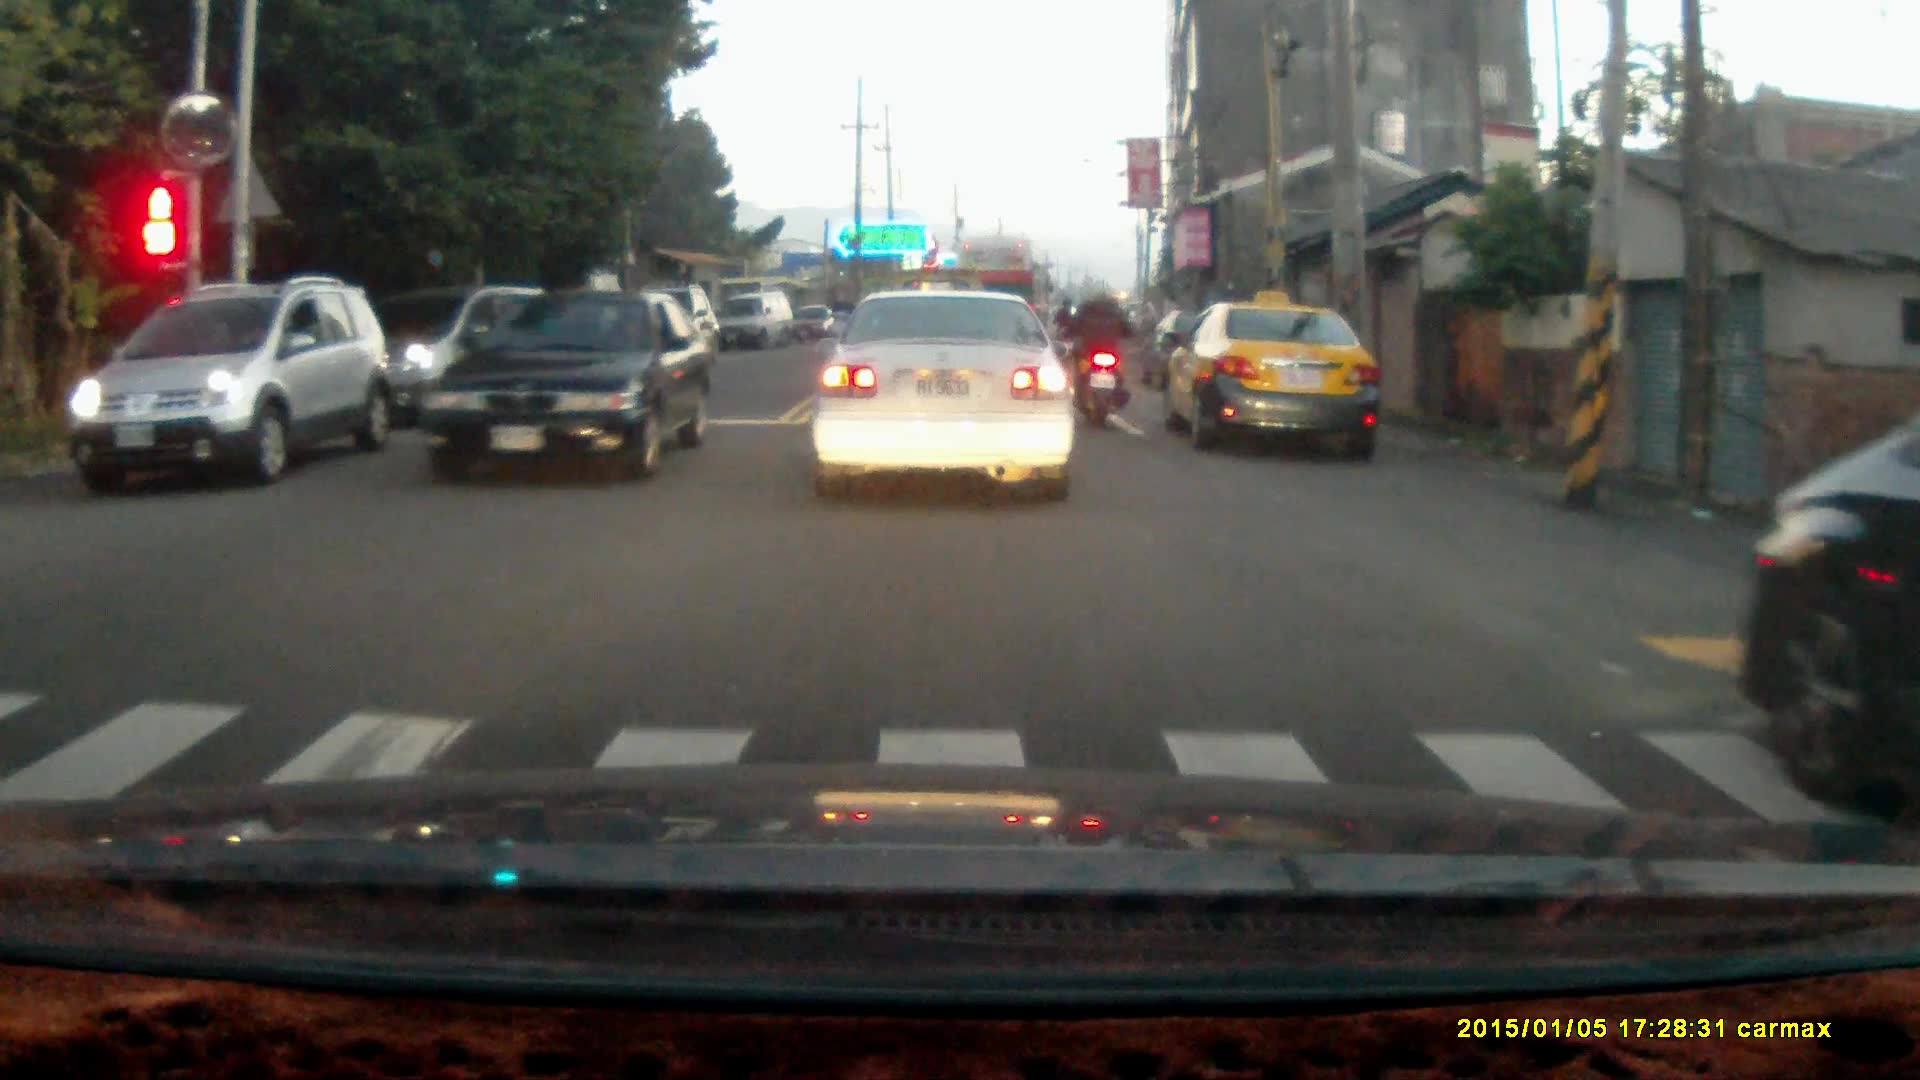rider: (1068, 274, 1136, 428)
vehicle: (1730, 418, 1920, 809), (66, 278, 381, 493), (811, 285, 1084, 501), (421, 286, 714, 483), (1170, 299, 1382, 454), (721, 288, 794, 354)
